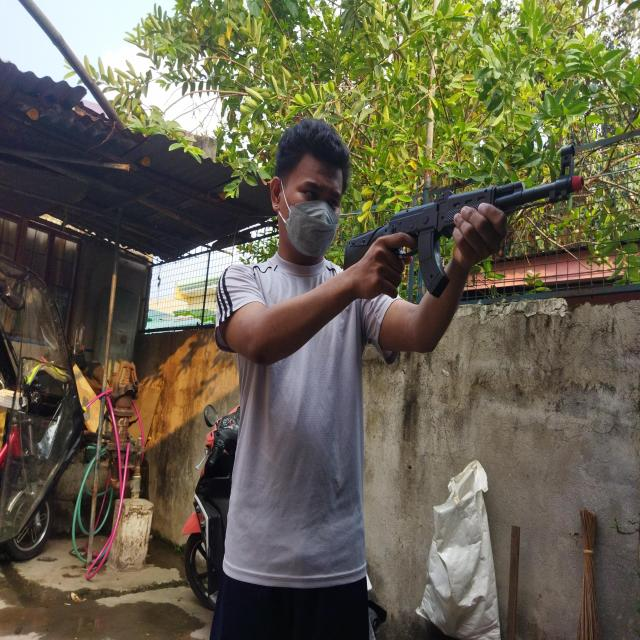rifle: (341, 145, 584, 300)
